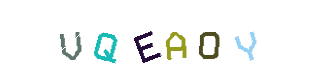A: (134, 0, 214, 80)
E: (120, 0, 200, 80)
O: (135, 0, 215, 80)
Q: (65, 0, 145, 80)
V: (49, 0, 129, 80)
Y: (156, 0, 236, 80)
